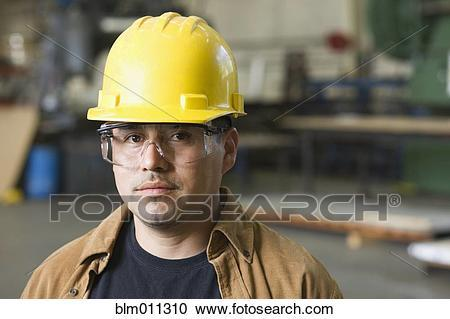helmet: (87, 12, 247, 124)
